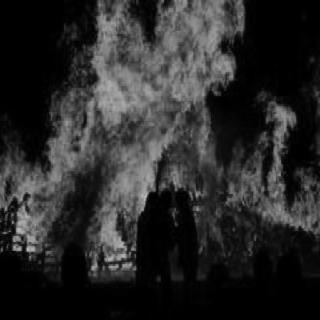Fire: (6, 2, 313, 278)
